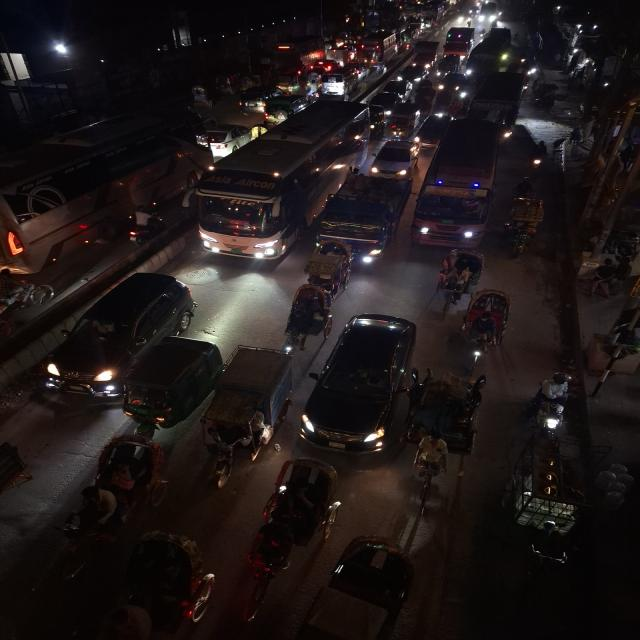bus: (182, 92, 369, 265), (0, 128, 183, 262), (410, 144, 498, 248), (464, 47, 508, 78)
car: (41, 270, 201, 404), (301, 318, 387, 452), (368, 136, 423, 178), (207, 121, 251, 152), (262, 98, 295, 122), (236, 92, 267, 115), (329, 74, 362, 95)
cng: (119, 331, 223, 438)
motorcycle: (530, 373, 579, 448), (110, 197, 168, 243)
pickup_van: (316, 181, 401, 258)
rickshaw: (231, 454, 346, 628), (204, 348, 288, 491), (403, 373, 485, 515), (457, 289, 514, 371), (283, 282, 335, 350), (501, 188, 546, 264), (302, 240, 363, 292), (433, 248, 482, 305)
truck: (442, 24, 472, 62)
